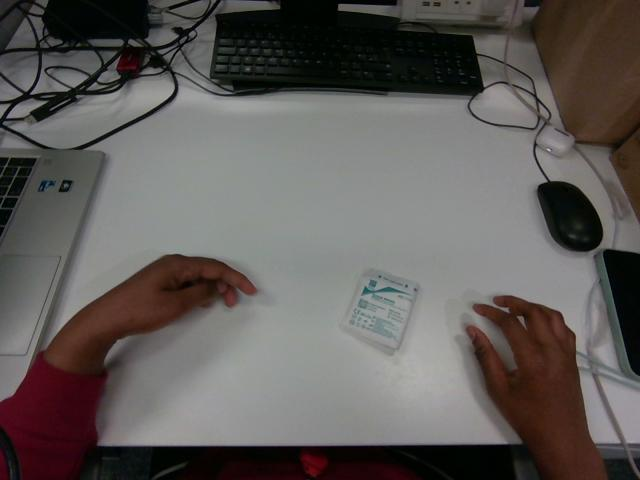gauze: (341, 269, 418, 354)
